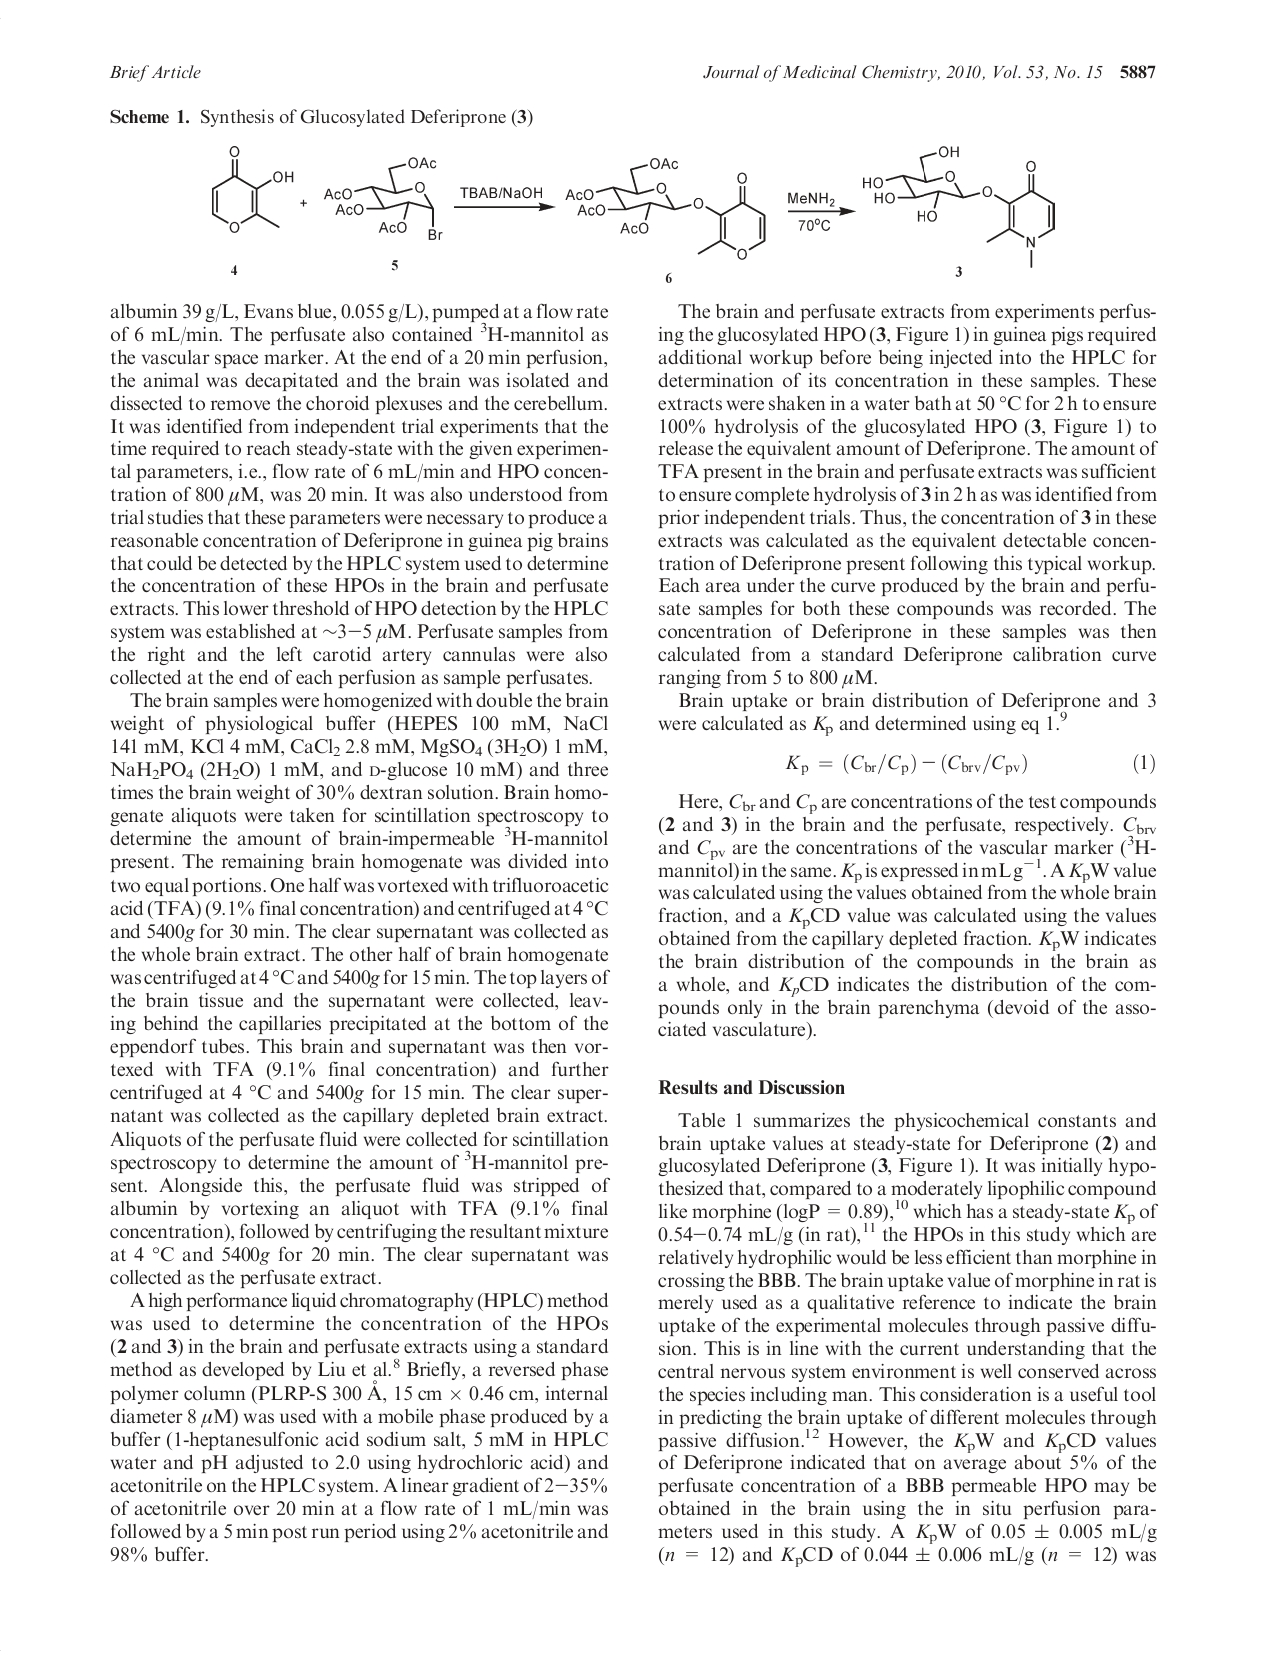exist_molecular: (860, 146, 1056, 269), (567, 154, 767, 261), (322, 156, 444, 243), (210, 144, 295, 233)
